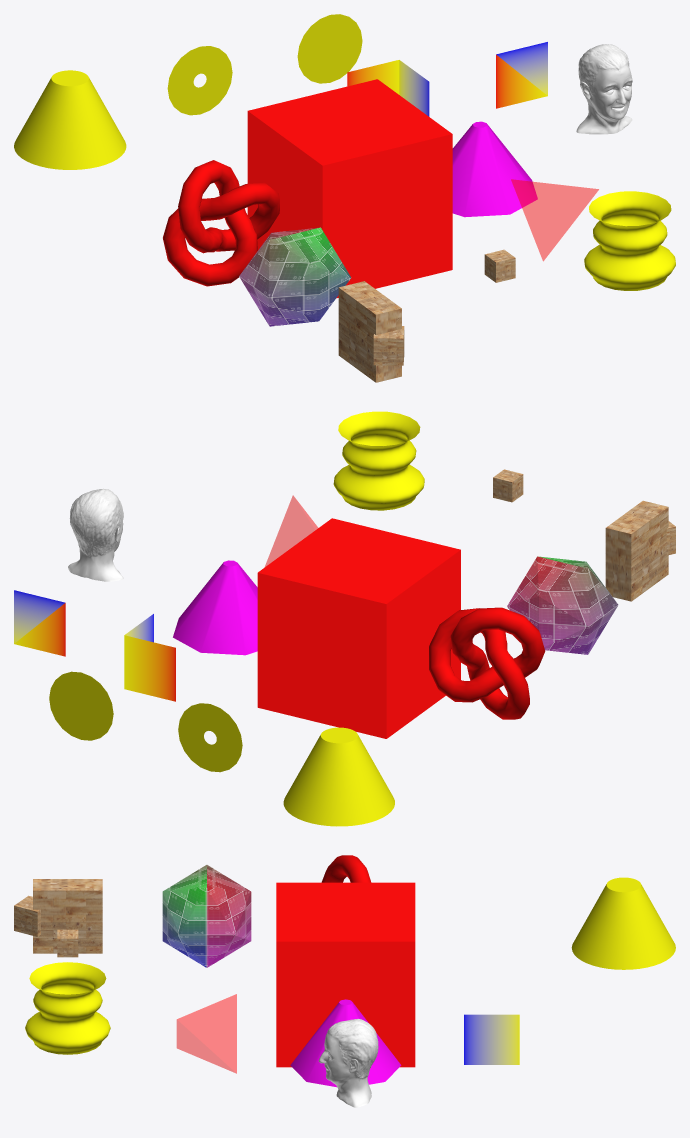
3 views of the same model, one above another, from view 1: azimuth 30°, elevation 25°; view 2: azimuth 150°, elevation 25°; view 3: azimuth 270°, elevation 25° (orthographic). The views are drawn at different scales.
Visible parts, largest first — view 1: CubeHidden, Cylinder (×2), Icosahedron, object 13, object 14, Cube, Mesh_Mesh_head_geo.001_lambert2SG.001, Tetrahedron, object 11, object 12, Custom buffered truncated, Custom buffered (+2 smaller); view 2: CubeHidden, Cylinder (×2), object 13, object 14, Icosahedron, Cube, Mesh_Mesh_head_geo.001_lambert2SG.001, object 11, object 12, Custom buffered, Custom buffered truncated, Tetrahedron (+1 smaller); view 3: CubeHidden, Icosahedron, object 13, object 14, Cube, Cylinder (×2), Mesh_Mesh_head_geo.001_lambert2SG.001, Tetrahedron, Custom buffered, SubCube, Cube in group.
Part boxes in pixels (x1=…): CubeHidden: x1=247, y1=79, x2=452, y2=298; Cylinder (×2): x1=163, y1=121, x2=537, y2=286; Icosahedron: x1=239, y1=227, x2=351, y2=326; object 13: x1=14, y1=70, x2=126, y2=169; object 14: x1=584, y1=191, x2=675, y2=290; Cube: x1=338, y1=281, x2=401, y2=382; Mesh_Mesh_head_geo.001_lambert2SG.001: x1=576, y1=44, x2=632, y2=134; Tetrahedron: x1=511, y1=179, x2=598, y2=261; object 11: x1=297, y1=14, x2=362, y2=83; object 12: x1=167, y1=46, x2=232, y2=115; Custom buffered truncated: x1=496, y1=42, x2=547, y2=108; Custom buffered: x1=347, y1=60, x2=429, y2=116; CubeHidden: x1=257, y1=518, x2=460, y2=738; Cylinder (×2): x1=173, y1=560, x2=545, y2=719; object 13: x1=283, y1=727, x2=394, y2=826; object 14: x1=333, y1=411, x2=424, y2=510; Icosahedron: x1=507, y1=556, x2=618, y2=654; Cube: x1=605, y1=500, x2=668, y2=601; Mesh_Mesh_head_geo.001_lambert2SG.001: x1=68, y1=488, x2=123, y2=581; object 11: x1=49, y1=671, x2=113, y2=740; object 12: x1=178, y1=703, x2=242, y2=772; Custom buffered: x1=124, y1=614, x2=175, y2=701; Custom buffered truncated: x1=14, y1=590, x2=65, y2=656; Tetrahedron: x1=265, y1=495, x2=318, y2=566; CubeHidden: x1=276, y1=882, x2=415, y2=1067; Icosahedron: x1=162, y1=865, x2=251, y2=967; object 13: x1=571, y1=877, x2=675, y2=969; object 14: x1=25, y1=962, x2=110, y2=1054; Cube: x1=33, y1=879, x2=102, y2=953; Cylinder (×2): x1=290, y1=855, x2=401, y2=1087; Mesh_Mesh_head_geo.001_lambert2SG.001: x1=318, y1=1018, x2=378, y2=1107; Tetrahedron: x1=176, y1=994, x2=236, y2=1073; Custom buffered: x1=464, y1=1014, x2=519, y2=1064; SubCube: x1=14, y1=895, x2=40, y2=936; Cube in group: x1=57, y1=929, x2=78, y2=957.
Bounding box in the file's own units: 717 × 214 × 953.
Materials: 11 (2 with a texture image).
